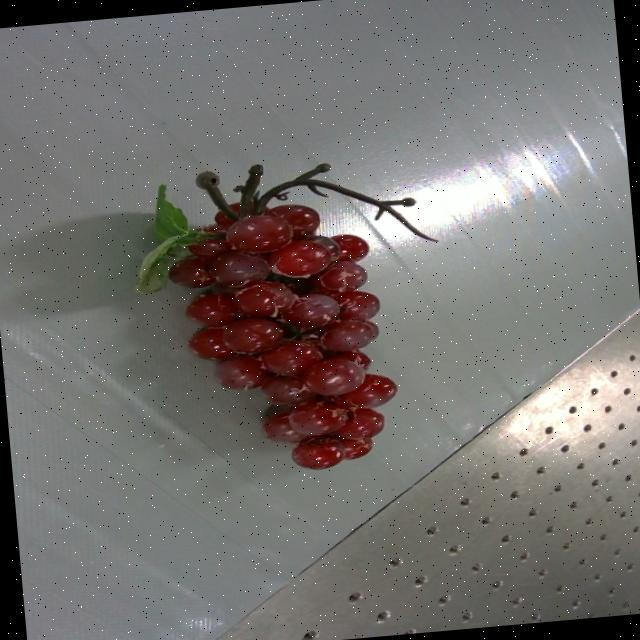grape: (136, 162, 434, 469)
